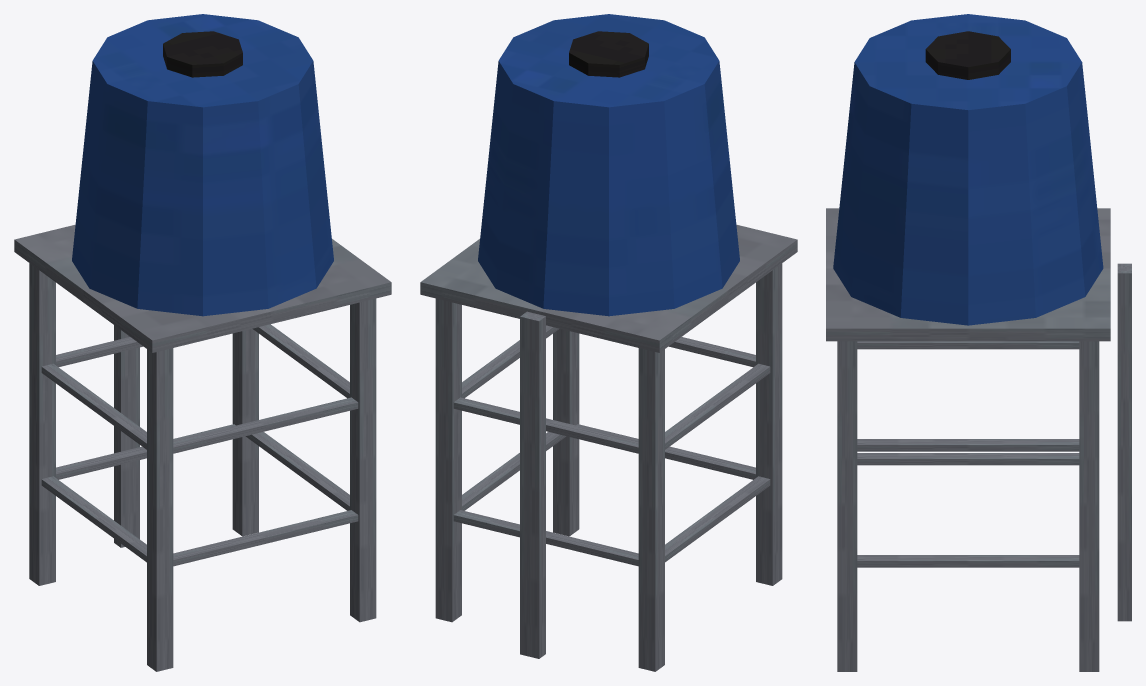
The model's file is tank-cream.glb.
3 views of the same model, side by side, from view 1: azimuth 30°, elevation 25°; view 2: azimuth 150°, elevation 25°; view 3: azimuth 270°, elevation 25° (orthographic). The views are drawn at different scales.
Parts seen in each view (by area): view 1: tank-cream; view 2: tank-cream; view 3: tank-cream.
Boxes of the visible parts, left/top/right/bottom form: tank-cream: left=14, top=14, right=391, bottom=671; tank-cream: left=420, top=14, right=797, bottom=671; tank-cream: left=826, top=14, right=1131, bottom=671.
Size of the model in its own units: 2 by 4.4 by 2.15.
1 material, 1 textured.
